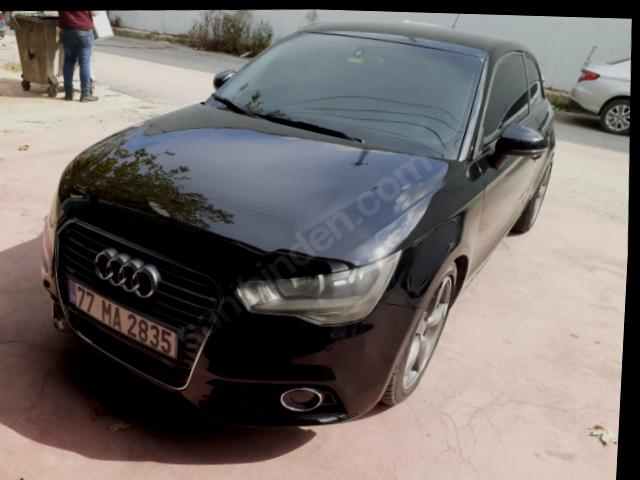plaka: (68, 280, 177, 359)
